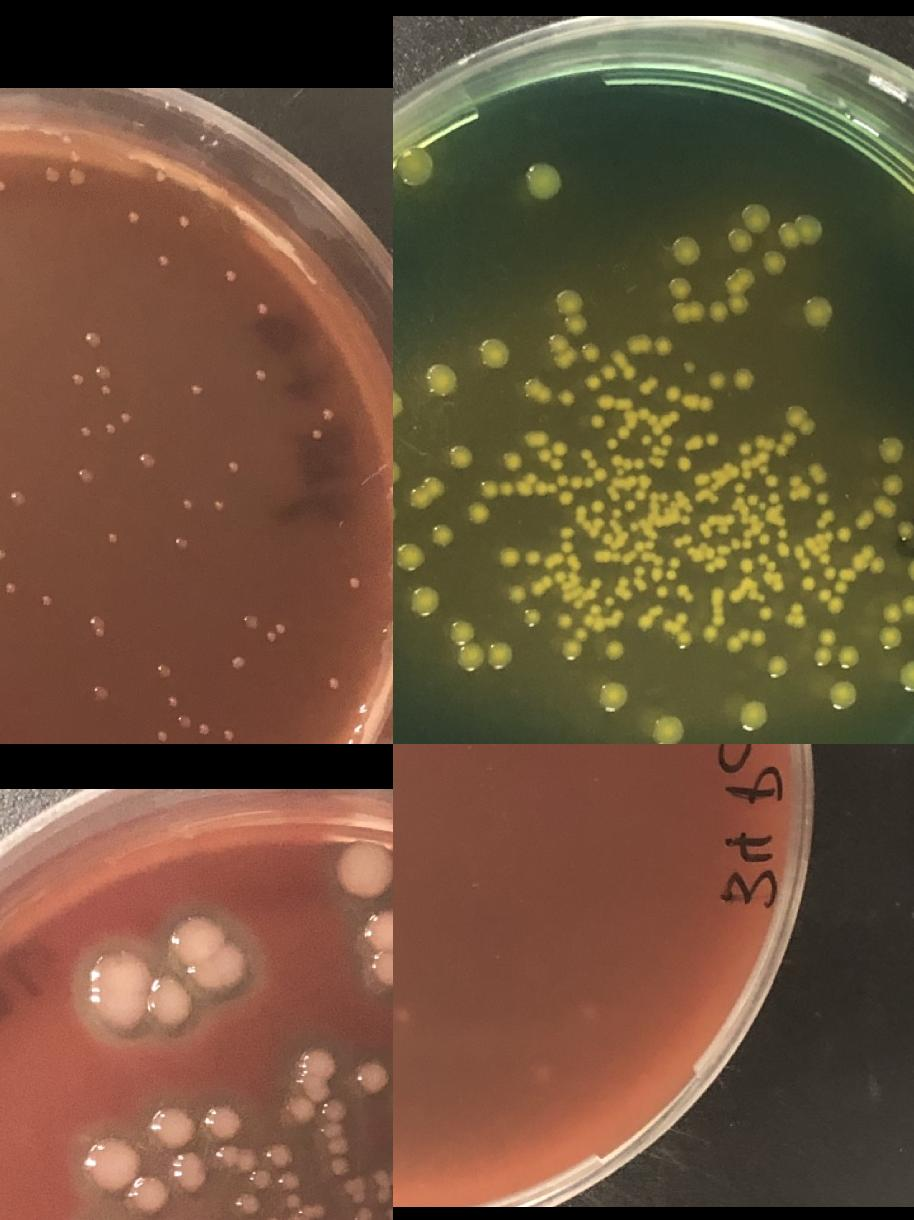pddamselae: (86, 951, 199, 1033), (84, 1134, 166, 1211), (169, 915, 246, 993), (335, 843, 393, 902), (318, 1098, 350, 1178), (217, 1146, 272, 1192), (367, 914, 393, 990), (148, 1107, 194, 1149), (353, 1057, 393, 1097), (204, 1108, 240, 1140), (283, 1096, 318, 1128), (301, 1048, 336, 1080), (173, 1154, 202, 1188), (267, 1142, 290, 1166), (236, 1194, 258, 1216)
pdpiscicida: (262, 621, 288, 646), (579, 1004, 596, 1020), (536, 1066, 552, 1082), (231, 656, 248, 671), (394, 1007, 411, 1022), (90, 364, 108, 378), (116, 411, 134, 425), (162, 695, 180, 709), (194, 722, 212, 736), (308, 429, 326, 443), (318, 409, 336, 423), (241, 614, 258, 628), (38, 594, 54, 608), (44, 169, 60, 183), (84, 332, 100, 346), (104, 533, 120, 547), (150, 167, 166, 181), (8, 492, 26, 504), (76, 426, 94, 438), (176, 500, 194, 512), (3, 581, 18, 595), (125, 212, 140, 226), (177, 216, 192, 230), (252, 368, 267, 382), (88, 617, 104, 630), (102, 424, 119, 436), (253, 302, 270, 314), (70, 170, 84, 184), (94, 686, 108, 700), (98, 384, 112, 398), (140, 453, 154, 467), (176, 714, 190, 728), (190, 383, 204, 397), (222, 269, 236, 283), (226, 459, 240, 473), (326, 676, 340, 690), (346, 576, 360, 590), (78, 471, 93, 484), (152, 730, 167, 743), (154, 256, 170, 268), (210, 500, 226, 512), (70, 373, 84, 386), (154, 664, 168, 677), (222, 730, 236, 743), (174, 538, 189, 550), (0, 547, 8, 560)
vharveyi: (446, 617, 514, 672), (727, 206, 767, 255), (396, 147, 434, 187), (524, 163, 562, 203), (556, 289, 588, 336), (422, 360, 459, 400), (777, 216, 821, 248), (626, 408, 678, 435), (731, 515, 769, 550), (408, 477, 446, 509), (736, 698, 771, 732), (800, 296, 835, 329), (666, 235, 702, 267), (824, 678, 857, 712), (596, 680, 629, 713), (875, 432, 908, 465), (649, 714, 685, 744), (803, 532, 834, 564), (756, 554, 782, 591), (478, 338, 508, 370), (784, 404, 814, 435), (408, 586, 438, 616), (726, 630, 766, 652), (754, 433, 794, 455), (395, 542, 424, 572), (574, 506, 602, 536), (813, 630, 835, 666), (628, 335, 669, 354), (893, 657, 914, 693), (766, 508, 789, 540), (524, 379, 552, 405), (878, 625, 903, 651), (448, 444, 472, 470), (667, 276, 691, 302), (732, 265, 756, 291), (762, 250, 786, 276), (480, 480, 511, 500), (706, 546, 729, 572), (674, 302, 702, 322), (430, 525, 455, 547), (582, 605, 604, 630), (787, 477, 809, 502), (465, 504, 489, 526), (662, 612, 686, 634), (546, 333, 568, 355), (785, 603, 804, 627), (610, 455, 642, 469), (393, 383, 404, 423), (648, 492, 670, 512), (652, 435, 672, 457), (854, 546, 874, 568), (902, 596, 914, 631), (530, 577, 553, 595), (518, 473, 536, 495), (578, 448, 596, 470), (613, 578, 631, 600), (676, 582, 694, 604), (562, 577, 579, 600), (628, 520, 652, 536), (601, 398, 632, 410), (716, 514, 734, 534), (816, 509, 834, 528), (592, 550, 620, 562), (686, 396, 710, 410), (639, 378, 657, 396), (768, 658, 786, 676), (838, 648, 856, 666), (875, 499, 894, 516), (570, 477, 594, 490), (710, 604, 724, 626), (728, 294, 745, 312), (735, 370, 752, 388), (560, 528, 572, 553), (856, 511, 873, 528), (504, 453, 520, 471), (710, 304, 726, 322), (756, 606, 774, 622), (884, 477, 900, 495), (884, 604, 900, 622), (608, 509, 621, 530), (501, 549, 516, 567), (673, 534, 692, 548), (738, 461, 752, 480), (693, 549, 713, 562), (606, 643, 622, 659), (808, 466, 824, 482), (532, 430, 546, 448), (582, 344, 596, 362), (509, 586, 524, 602), (522, 610, 538, 625), (708, 373, 724, 388), (734, 499, 748, 516), (556, 614, 572, 628), (564, 642, 578, 658), (566, 555, 580, 571), (393, 456, 400, 486), (606, 486, 618, 501), (592, 469, 606, 481), (664, 570, 678, 582), (698, 524, 710, 538), (710, 588, 724, 600), (728, 590, 742, 602), (738, 444, 752, 456), (798, 558, 812, 570), (602, 367, 615, 379), (526, 553, 538, 565), (534, 483, 546, 495), (538, 450, 550, 462), (549, 459, 561, 471), (553, 444, 565, 456), (556, 475, 568, 487), (559, 493, 571, 505), (560, 392, 572, 404), (574, 629, 586, 641), (588, 376, 600, 388), (588, 578, 600, 590), (591, 416, 603, 428), (591, 501, 603, 513), (606, 439, 618, 451), (612, 351, 624, 363), (617, 427, 629, 439), (622, 367, 634, 379), (638, 617, 650, 629), (640, 435, 652, 447), (650, 568, 662, 580), (656, 586, 668, 598), (666, 388, 678, 400), (666, 556, 678, 568), (677, 459, 689, 471), (677, 635, 689, 647), (684, 361, 696, 373), (690, 437, 702, 449), (695, 474, 707, 486), (704, 434, 716, 446), (704, 629, 716, 641), (740, 561, 752, 573), (766, 475, 778, 487), (768, 493, 780, 505), (778, 544, 790, 556), (792, 546, 804, 558), (802, 578, 814, 590), (815, 493, 827, 505), (818, 589, 830, 601), (822, 567, 834, 579), (830, 598, 842, 610), (834, 582, 846, 594), (838, 528, 850, 540), (840, 569, 852, 581), (872, 560, 884, 572), (900, 525, 912, 537), (908, 562, 914, 579)
